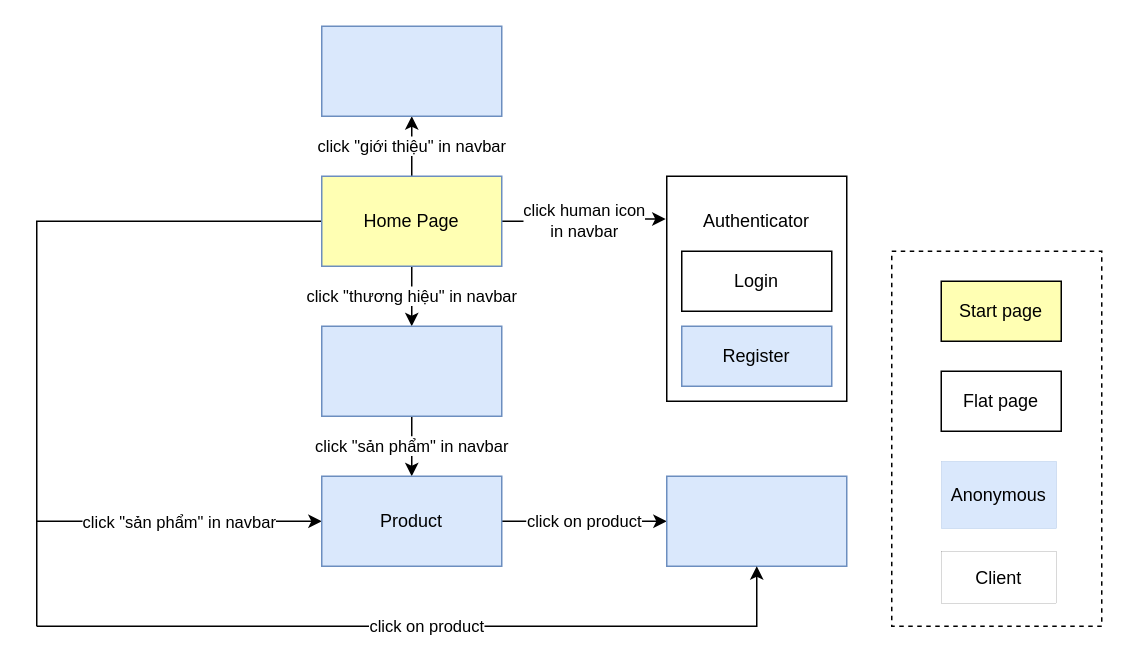
Some shapes in this 1128 by 665 pixel diagram are drawn without their labels. Here are the shapes that lost their labels. From the top down, the centre of each, then its label:
the point at 411,70: Introduce
the point at 411,370: Brand
the point at 756,520: Product Detail
